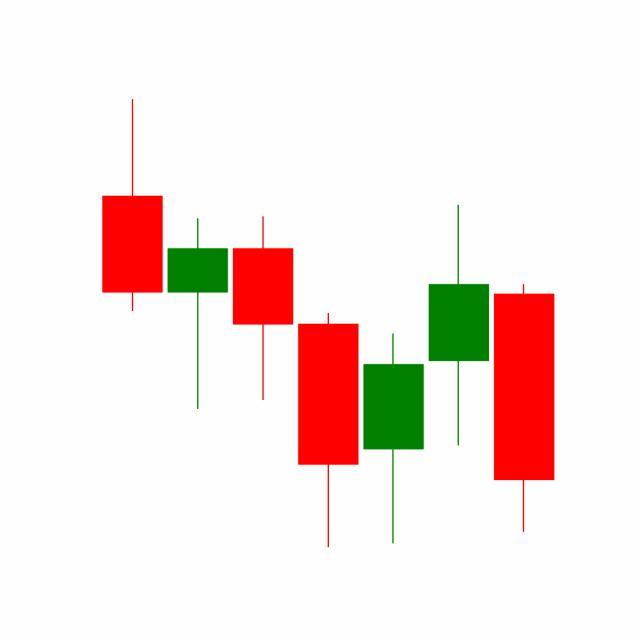Three Inside Up-Down: (295, 201, 492, 548)
